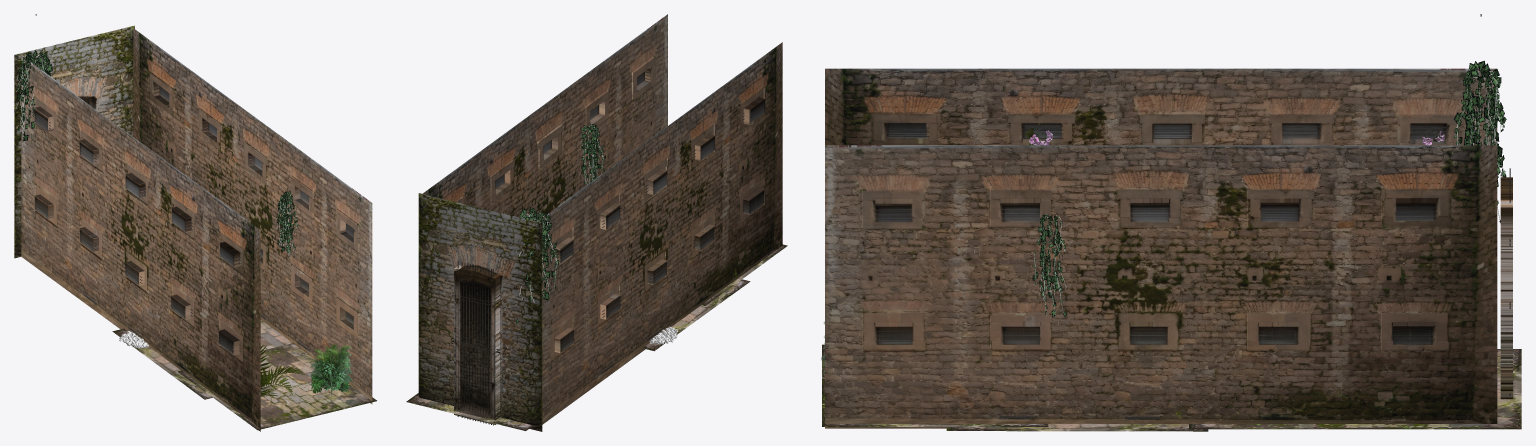
Rendered from pasillo_optimizado.glb.
3 renders of one model, left to right at view 1: azimuth 30°, elevation 25°; view 2: azimuth 150°, elevation 25°; view 3: azimuth 270°, elevation 25°, orthographic. The views are drawn at different scales.
Parts seen in each view (by area): view 1: murocear, murocear.001, rejapared, pisoceart1.002, pisoceart1.001, plant.000, plantas.006, plant.001, plantas.007, Alexandra Palm Plant Elder; view 2: murocear, rejapared, murocear.001, plant.000, plant.001, pisoceart1.001, pisoceart1, pisoceart1.002; view 3: murocear.001, murocear, pisoceart1, plant.000, rejapared, plant.001, pisoceart1.001, pisoceart1.002.
Boxes of the visible parts, bbox=[...] form: murocear: bbox=[21, 55, 260, 431]; murocear.001: bbox=[133, 28, 372, 404]; rejapared: bbox=[14, 25, 134, 258]; pisoceart1.002: bbox=[177, 343, 376, 430]; pisoceart1.001: bbox=[112, 320, 292, 399]; plant.000: bbox=[16, 14, 52, 141]; plantas.006: bbox=[310, 345, 353, 392]; plant.001: bbox=[276, 166, 298, 257]; plantas.007: bbox=[311, 344, 352, 393]; Alexandra Palm Plant Elder: bbox=[211, 344, 304, 409]; murocear: bbox=[537, 42, 782, 424]; rejapared: bbox=[418, 193, 542, 431]; murocear.001: bbox=[423, 14, 667, 220]; plant.000: bbox=[515, 171, 559, 323]; plant.001: bbox=[581, 96, 604, 184]; pisoceart1.001: bbox=[643, 279, 750, 351]; pisoceart1: bbox=[406, 393, 533, 430]; pisoceart1.002: bbox=[701, 244, 787, 305]; murocear.001: bbox=[825, 145, 1497, 428]; murocear: bbox=[825, 68, 1497, 145]; pisoceart1: bbox=[1189, 349, 1521, 429]; plant.000: bbox=[1454, 14, 1506, 222]; rejapared: bbox=[1500, 177, 1512, 399]; plant.001: bbox=[1032, 214, 1067, 317]; pisoceart1.001: bbox=[946, 424, 1208, 431]; pisoceart1.002: bbox=[822, 344, 1048, 426].
Size of the model in its own units: 0.8705 by 1.54 by 2.68.
Materials: 20 (13 with a texture image).
